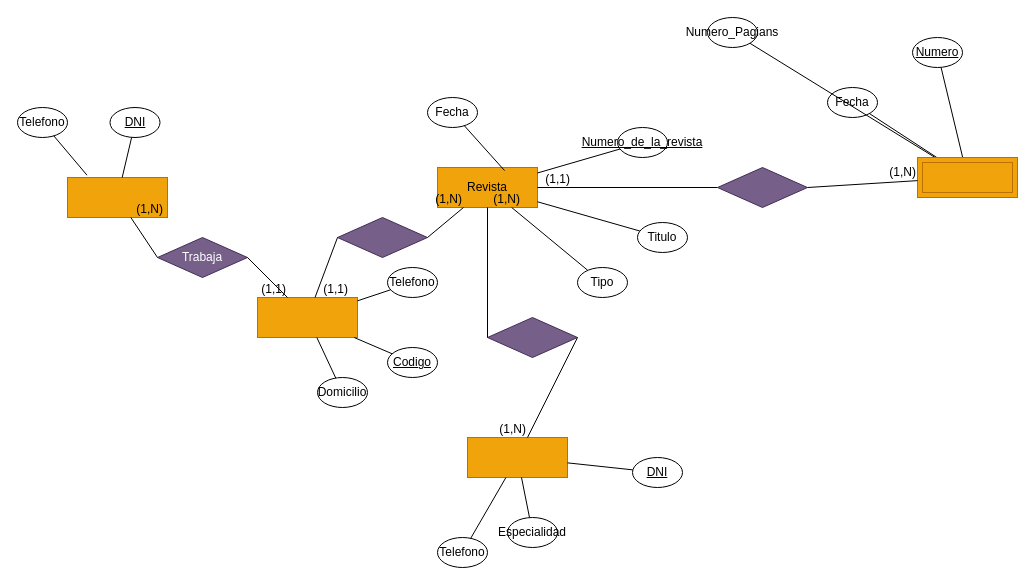
The diagram is 1035 pixels wide and 585 high, and some of its shapes have lost their labels. The centre of each missing label's shape, as x and y in pixels:
"Empleado" belongs at (117,197).
"Escribe" belongs at (532,337).
"Incluye" belongs at (762,187).
"NumeroRevista" belongs at (967,177).
"Periodista" belongs at (517,457).
"Publican" belongs at (382,237).
"sucursal" belongs at (307,317).
